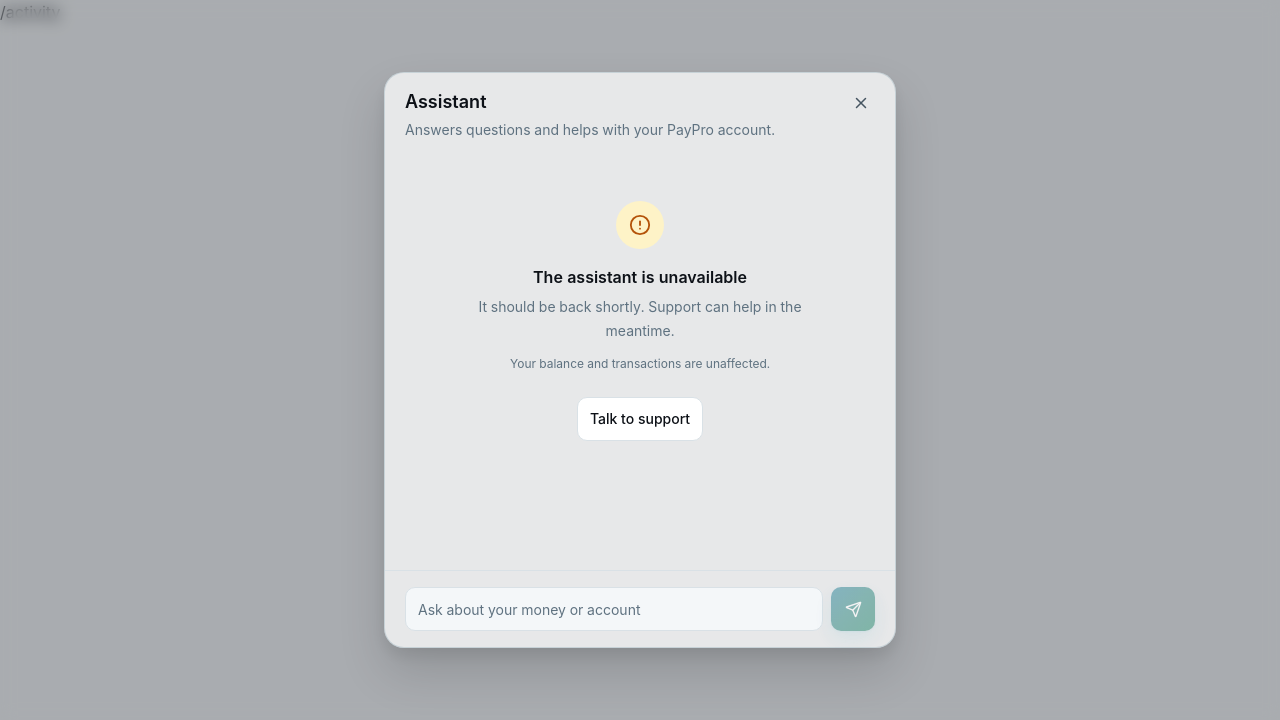
Test: AssistantSheet — the server picks the assistant (plan.md §40.4) › v2: unavailable (503) shows the error state with a way to support
The width and height of the screenshot is (1280, 720).
Expected: the heading "The assistant is unavailable" is shown, [533,267,747,287]
Click the button "Talk to support": point(640, 419) [577,397,703,441]
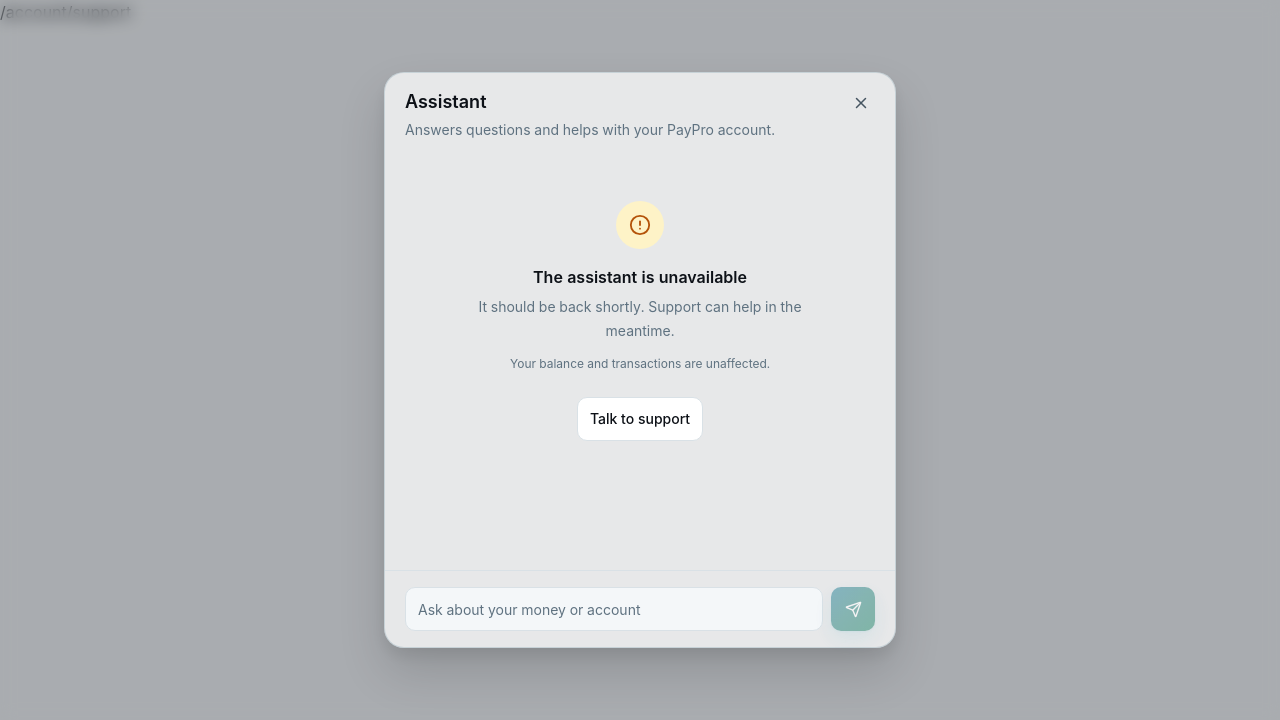
Expected: the text with test id "where" reads "/account/support", [0,2,131,22]
